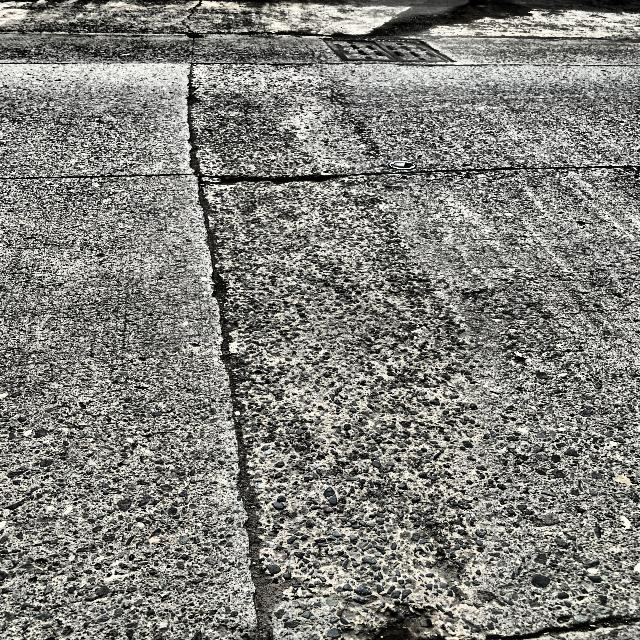major_scaling: (203, 182, 550, 601), (0, 173, 256, 640), (190, 64, 357, 180)
